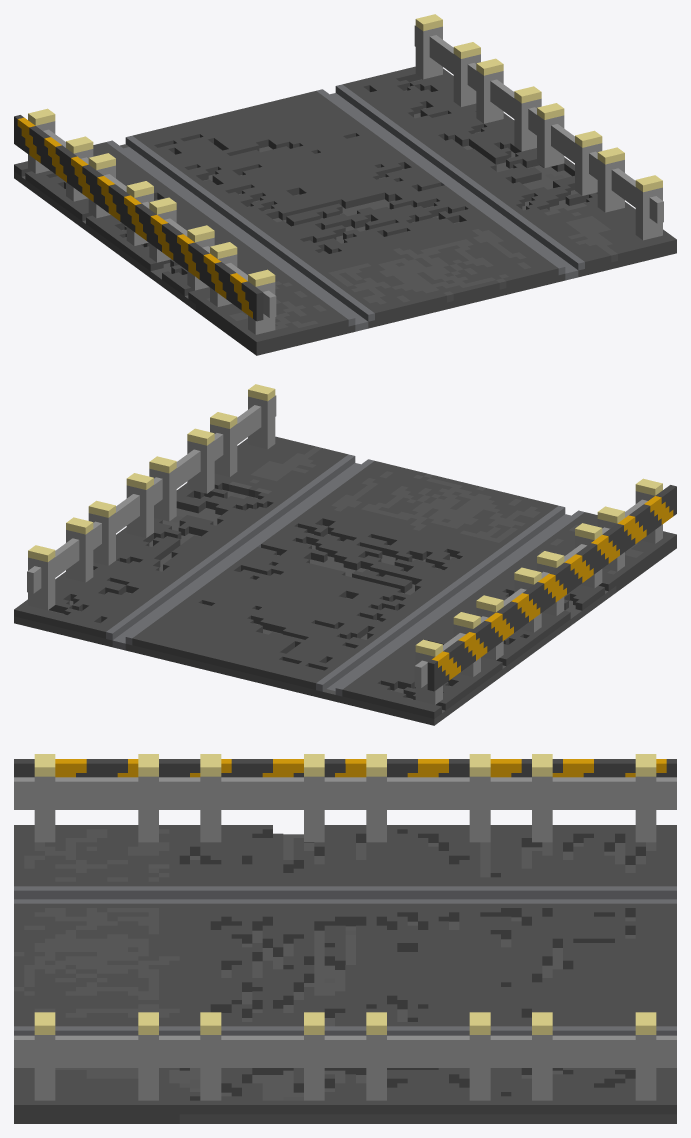
Rendered from MapWIP_v02-35.obj.
The picture shows the model from 3 angles, top to bottom: view 1: azimuth 30°, elevation 25°; view 2: azimuth 150°, elevation 25°; view 3: azimuth 270°, elevation 25°; orthographic projection. The views are drawn at different scales.
Size of the model in its own units: 6.4 by 1 by 6.4.
1 material, 1 textured.
